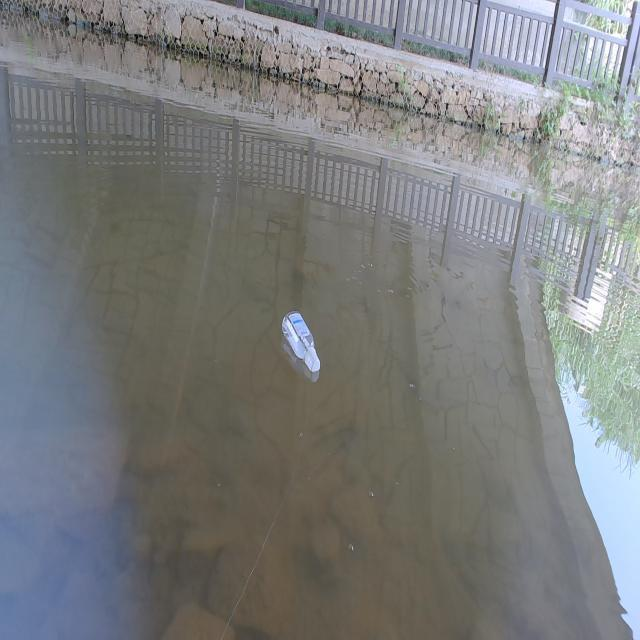garbage: (281, 309, 321, 373)
